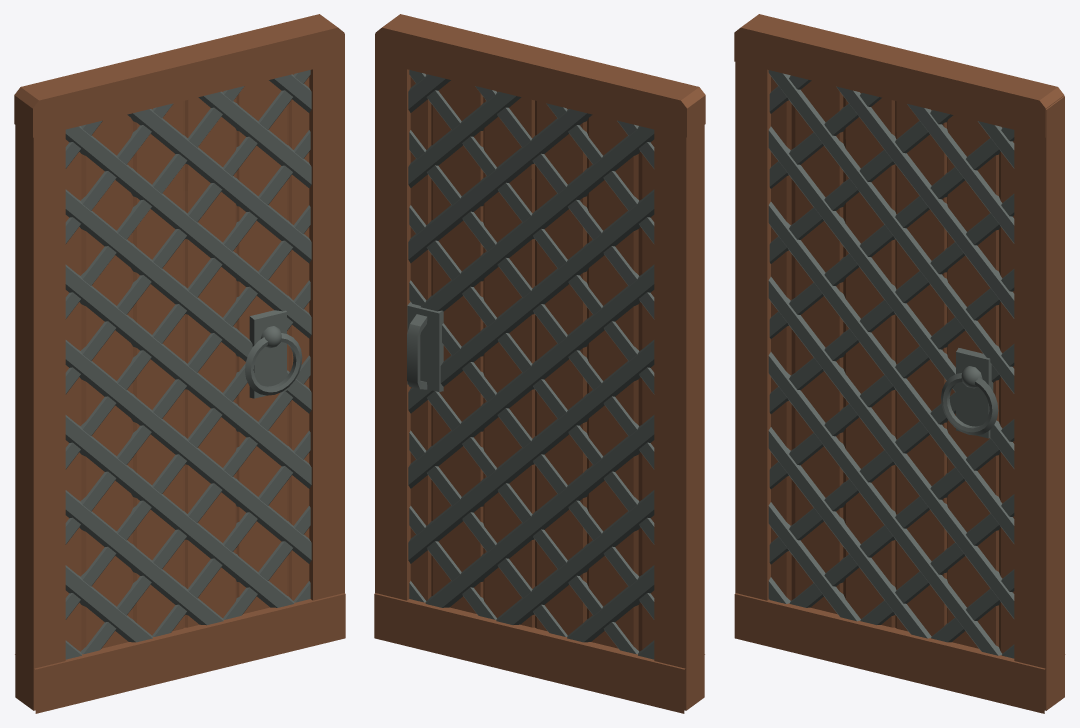
Rendered from Door_4_Flat.glb.
The picture shows the model from 3 angles, left to right: view 1: azimuth 30°, elevation 25°; view 2: azimuth 150°, elevation 25°; view 3: azimuth 330°, elevation 25°; orthographic projection.
Parts seen in each view (by area): view 1: Door_4_Flat; view 2: Door_4_Flat; view 3: Door_4_Flat.
Boxes of the visible parts, <box> form: Door_4_Flat: <box>14,14,345,713</box>; Door_4_Flat: <box>374,14,705,713</box>; Door_4_Flat: <box>734,14,1065,713</box>.
Bounding box in the file's own units: 1.12 × 2.09 × 0.2093.
